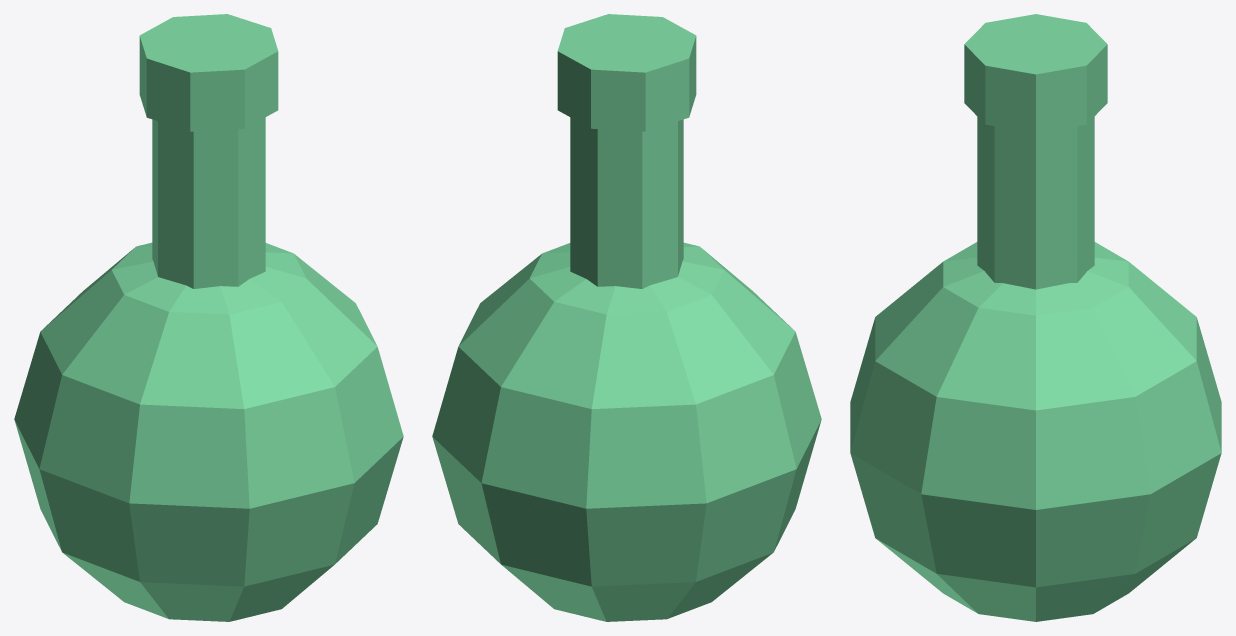
Rendered from potion.glb.
3 renders of one model, left to right at view 1: azimuth 30°, elevation 25°; view 2: azimuth 150°, elevation 25°; view 3: azimuth 270°, elevation 25°, orthographic.
Visible parts, largest first — view 1: potion; view 2: potion; view 3: potion.
Boxes of the visible parts, x1,y1,x2,y2 form: potion: [14, 14, 403, 621]; potion: [432, 14, 821, 621]; potion: [850, 14, 1221, 621].
Bounding box in the file's own units: 0.6 × 0.95 × 0.5706.
